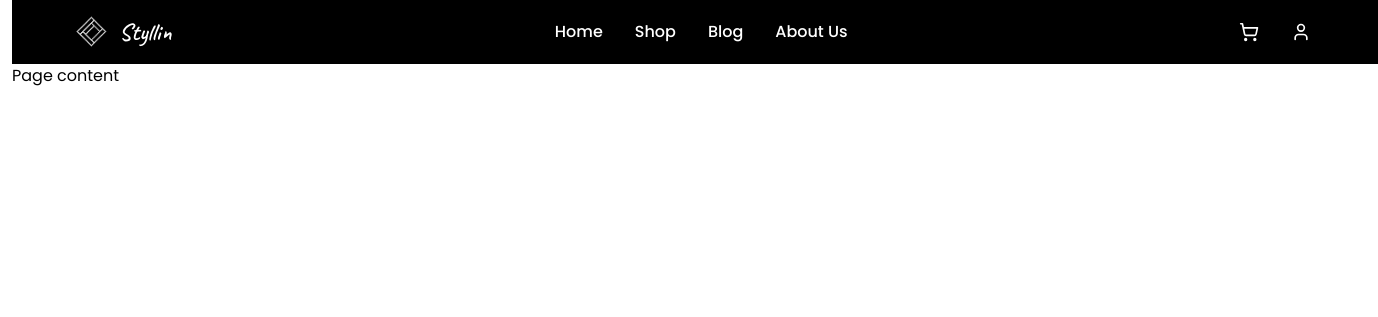
Test: closes the account menu with Escape and returns focus
Click the button named "Open account menu": click(1301, 32) [1283,14,1319,50]
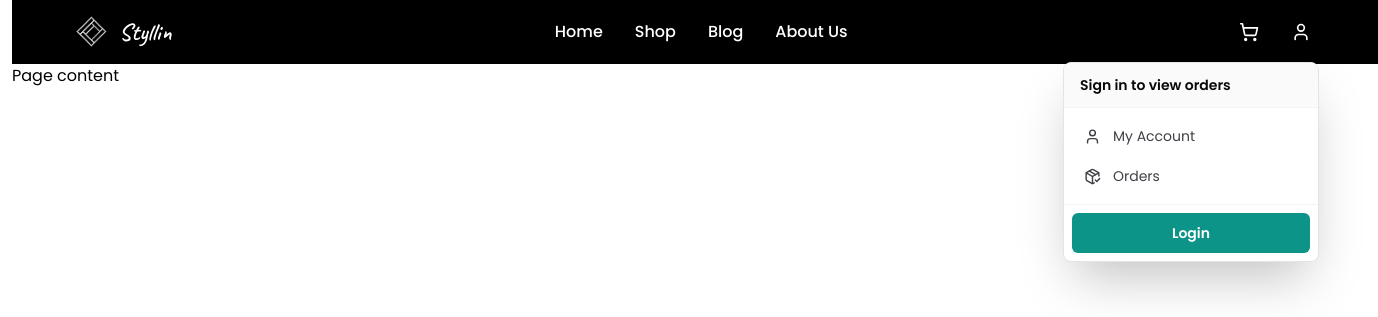
Press Escape
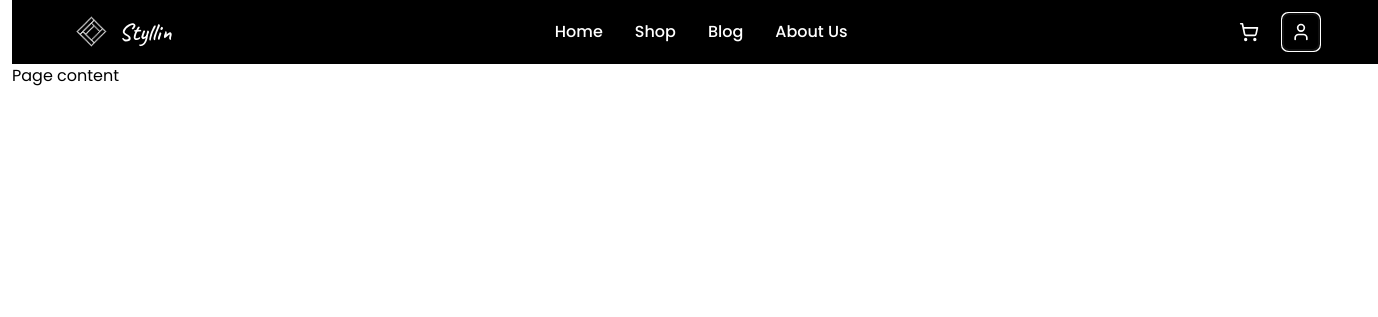
expect the text "Sign in to view orders" is gone: met
